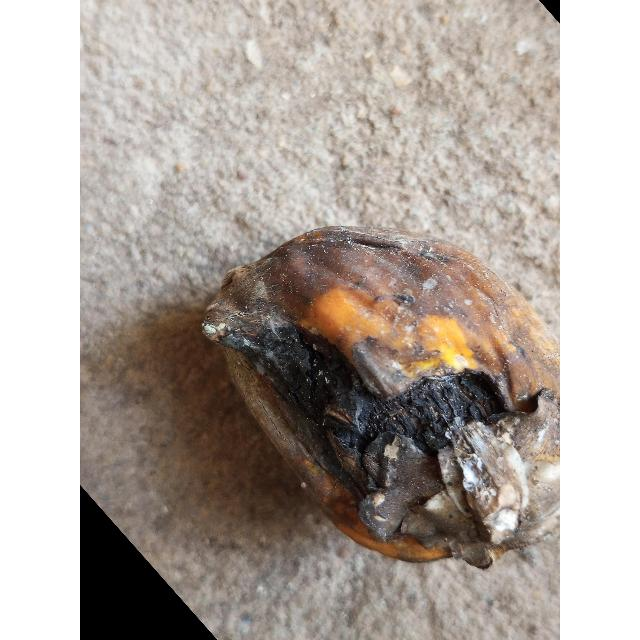damaged: (201, 227, 560, 573)
